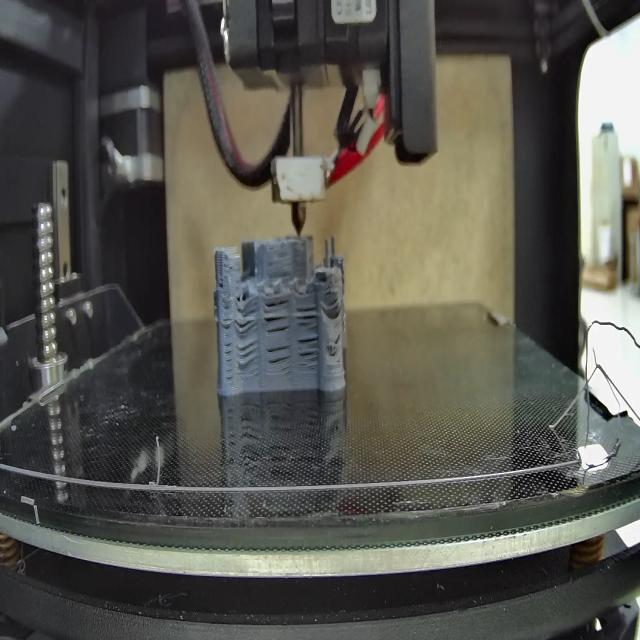cracks: (264, 297, 291, 333), (266, 342, 294, 372), (297, 335, 320, 371), (296, 303, 319, 328), (323, 290, 342, 320), (238, 341, 256, 368), (236, 314, 256, 335), (224, 341, 233, 382), (325, 331, 341, 354), (216, 272, 226, 290), (222, 318, 232, 330)
